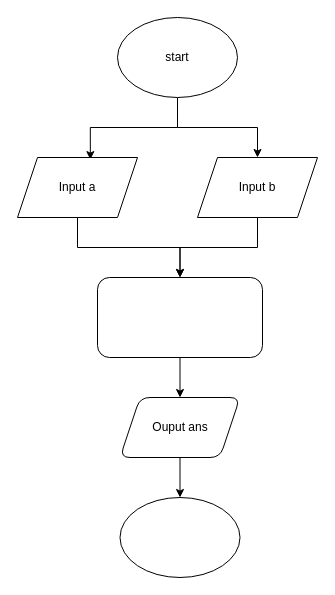
This 335x595 diagram has some shape labels left out. The box of each missing label's shape, as (x1, y1, x2, y2) in pixels:
ans = a + b: (96, 276, 262, 358)
end: (119, 496, 240, 578)
